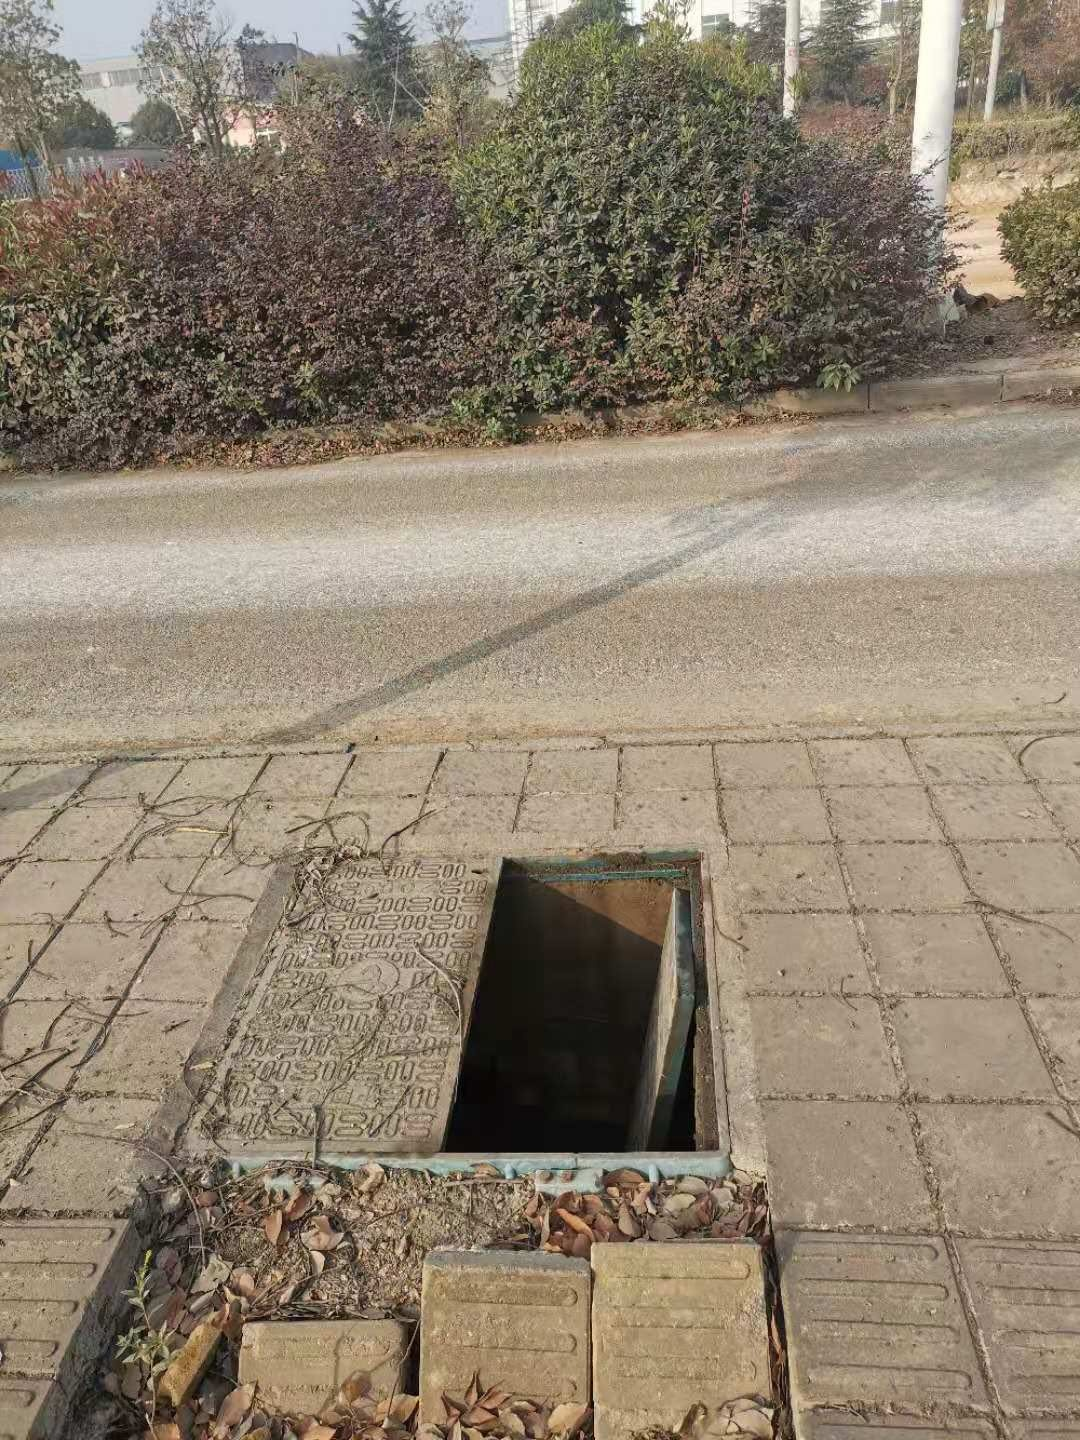uncovered: (166, 848, 733, 1183)
